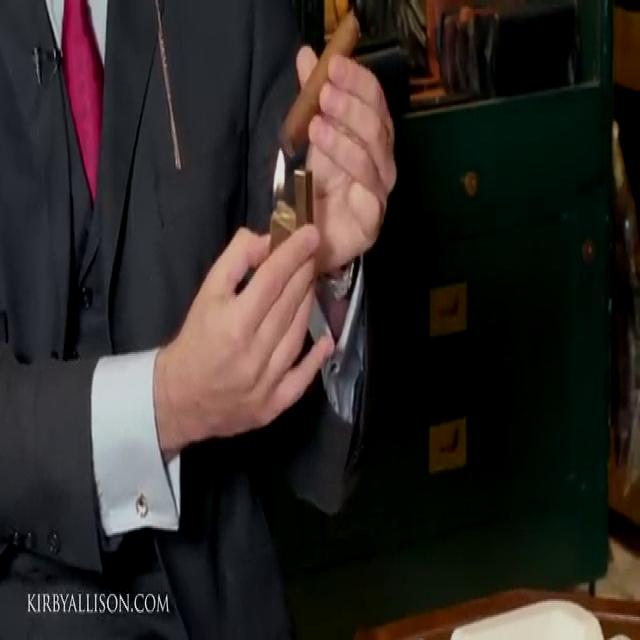Smooking: (273, 11, 371, 202)
